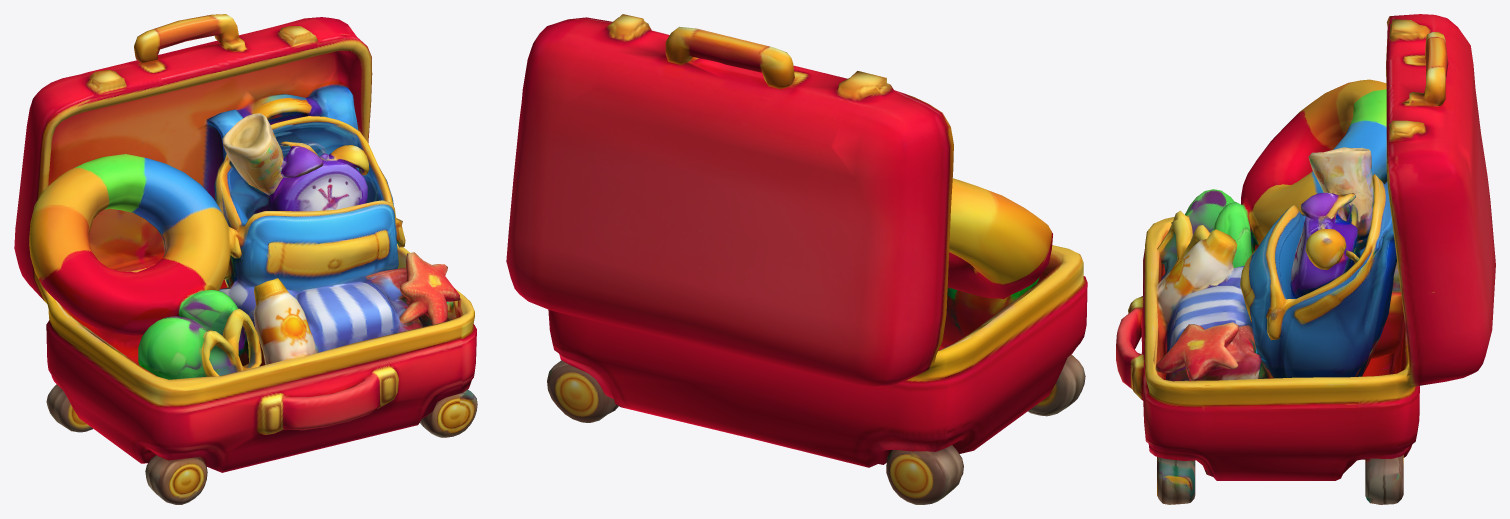
Rendered from Meshy_AI_harvest_basket_0227123754_texture.fbx.
The picture shows the model from 3 angles, left to right: view 1: azimuth 30°, elevation 25°; view 2: azimuth 150°, elevation 25°; view 3: azimuth 270°, elevation 25°; orthographic projection. The views are drawn at different scales.
Parts seen in each view (by area): view 1: Mesh_0; view 2: Mesh_0; view 3: Mesh_0.
Boxes of the visible parts, x1=… form: Mesh_0: x1=14, y1=14, x2=477, y2=504; Mesh_0: x1=506, y1=14, x2=1087, y2=504; Mesh_0: x1=1116, y1=14, x2=1495, y2=504.
Bounding box in the file's own units: 191 × 176 × 159.
Materials: 1 (1 with a texture image).
